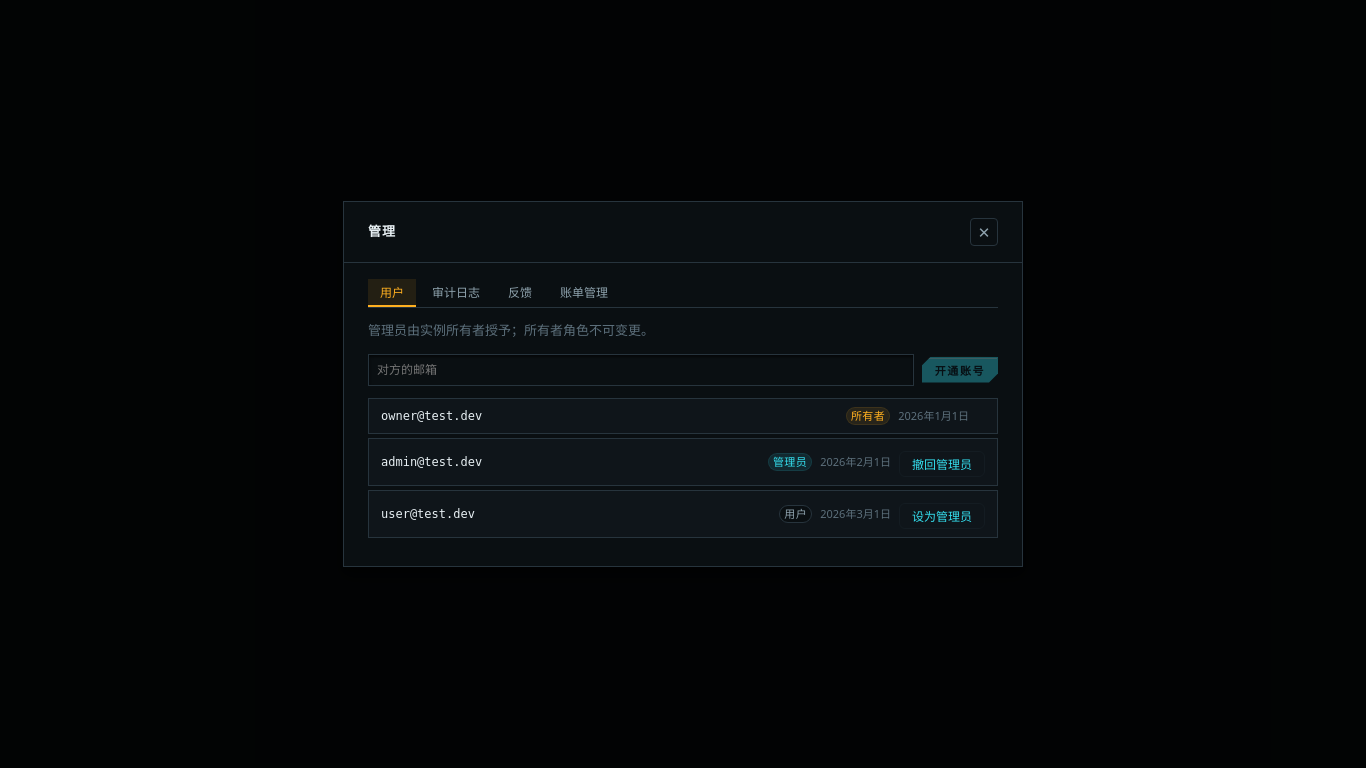
AdminPanel › owner 视图 › 注册关闭后 owner 可以从这里开账号，一次性口令只展示这一次
Expected: the text "owner@test.dev" is shown, [381, 409, 482, 423]
In the field with placeholder "对方的邮箱": {"x": 641, "y": 370} [368, 354, 914, 386], type " new@test.dev "
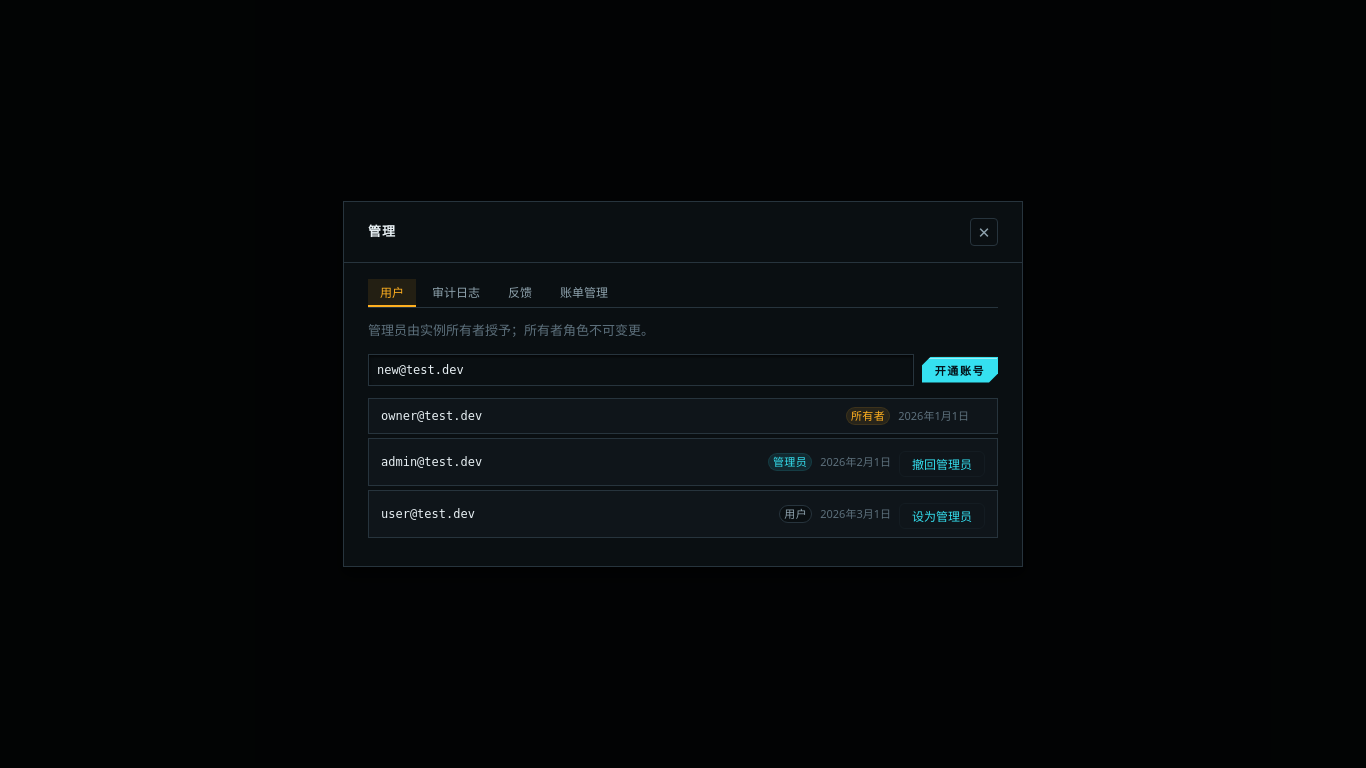
Click the button "开通账号": {"x": 960, "y": 370} [922, 356, 998, 382]
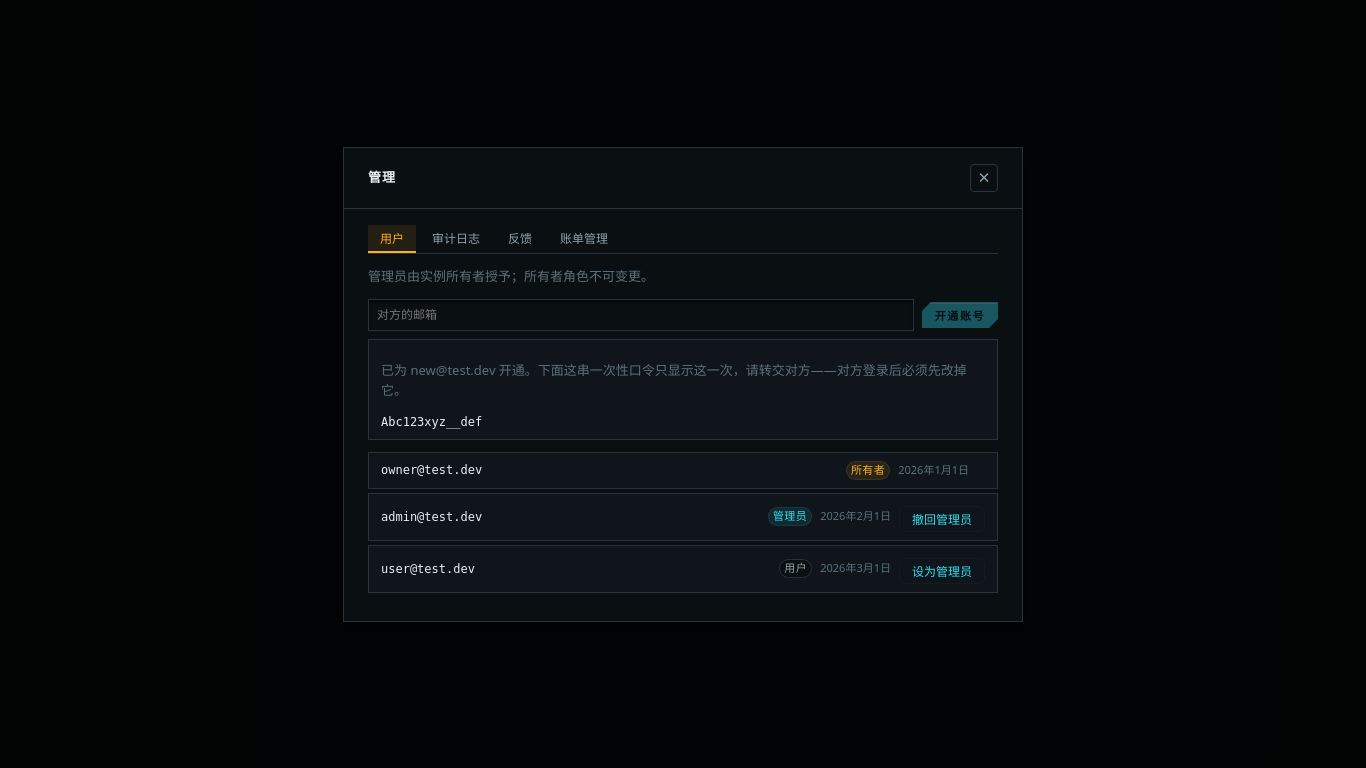
Now the text "Abc123xyz__def" is shown, box [381, 415, 482, 429]
